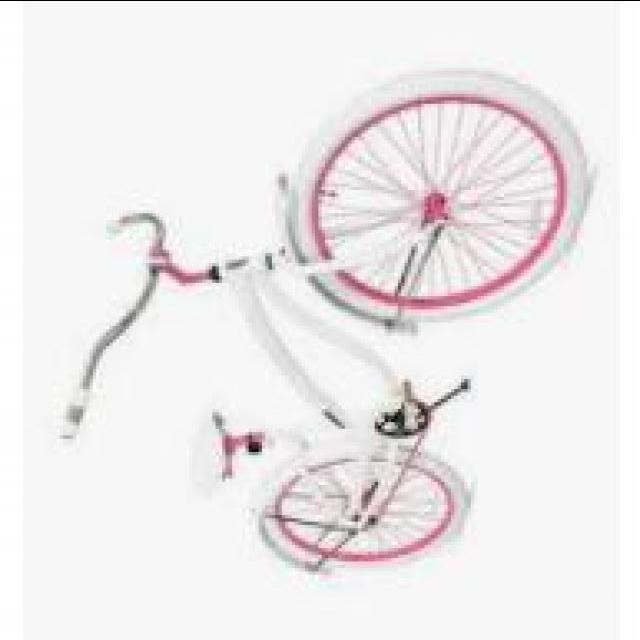bicycle: (48, 81, 612, 581)
